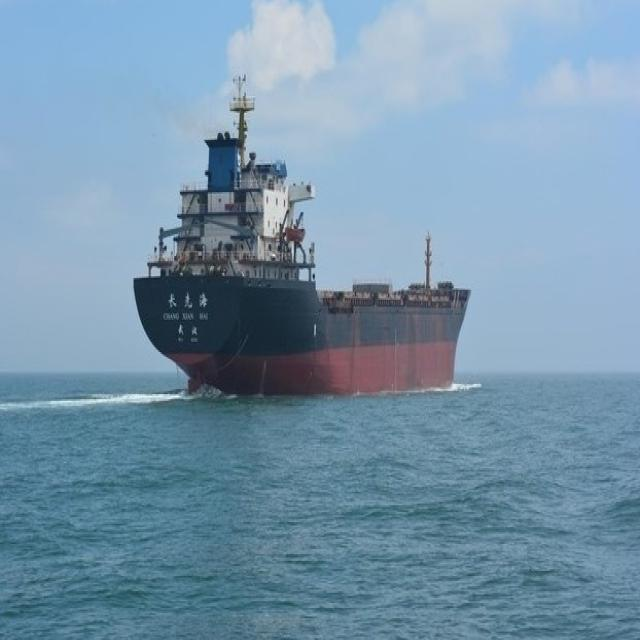cargoship: (136, 80, 466, 402)
